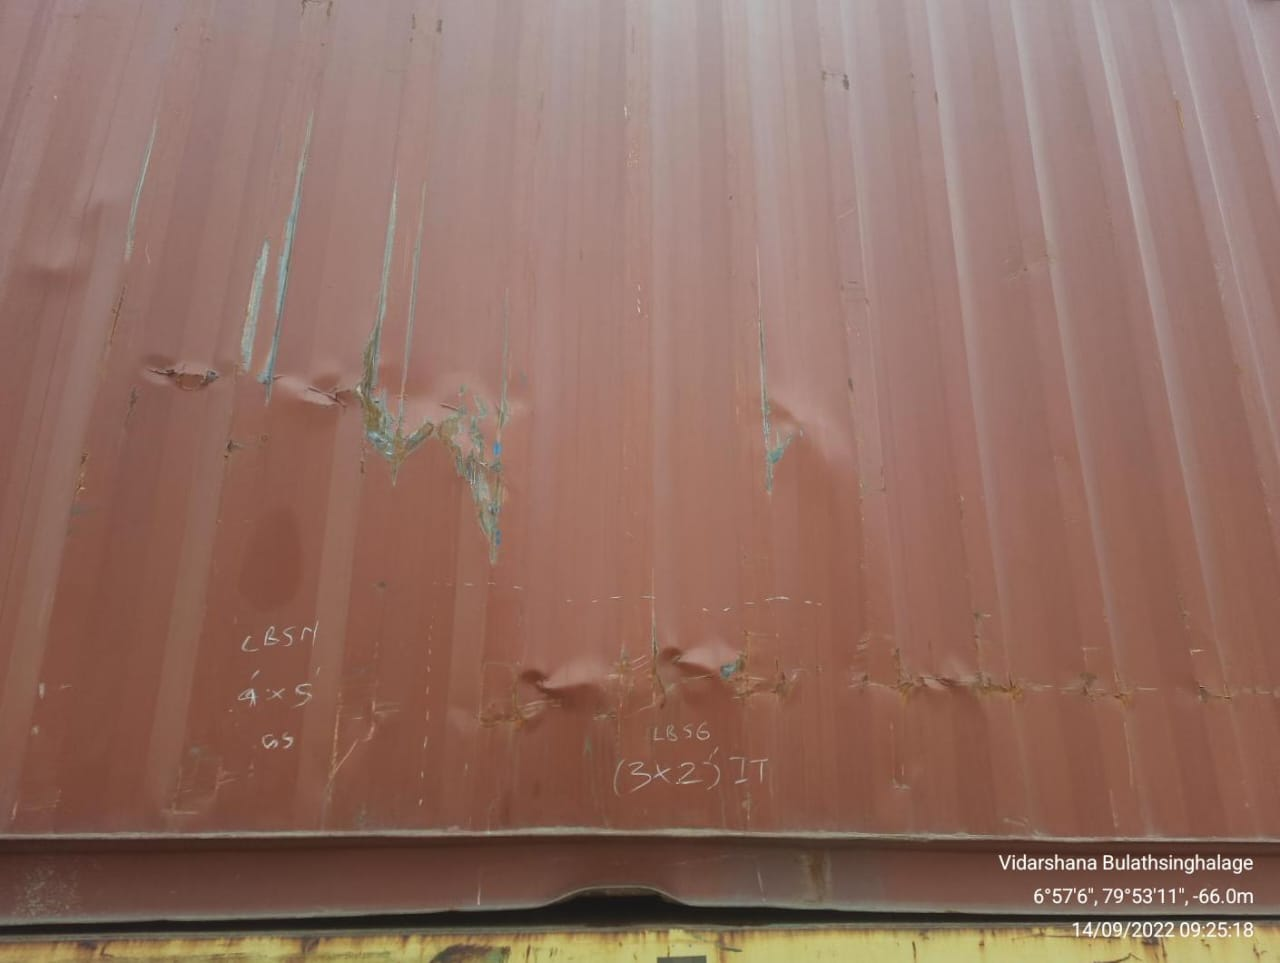bulged: (479, 616, 818, 745)
dented: (134, 333, 570, 511), (911, 653, 1258, 726)
